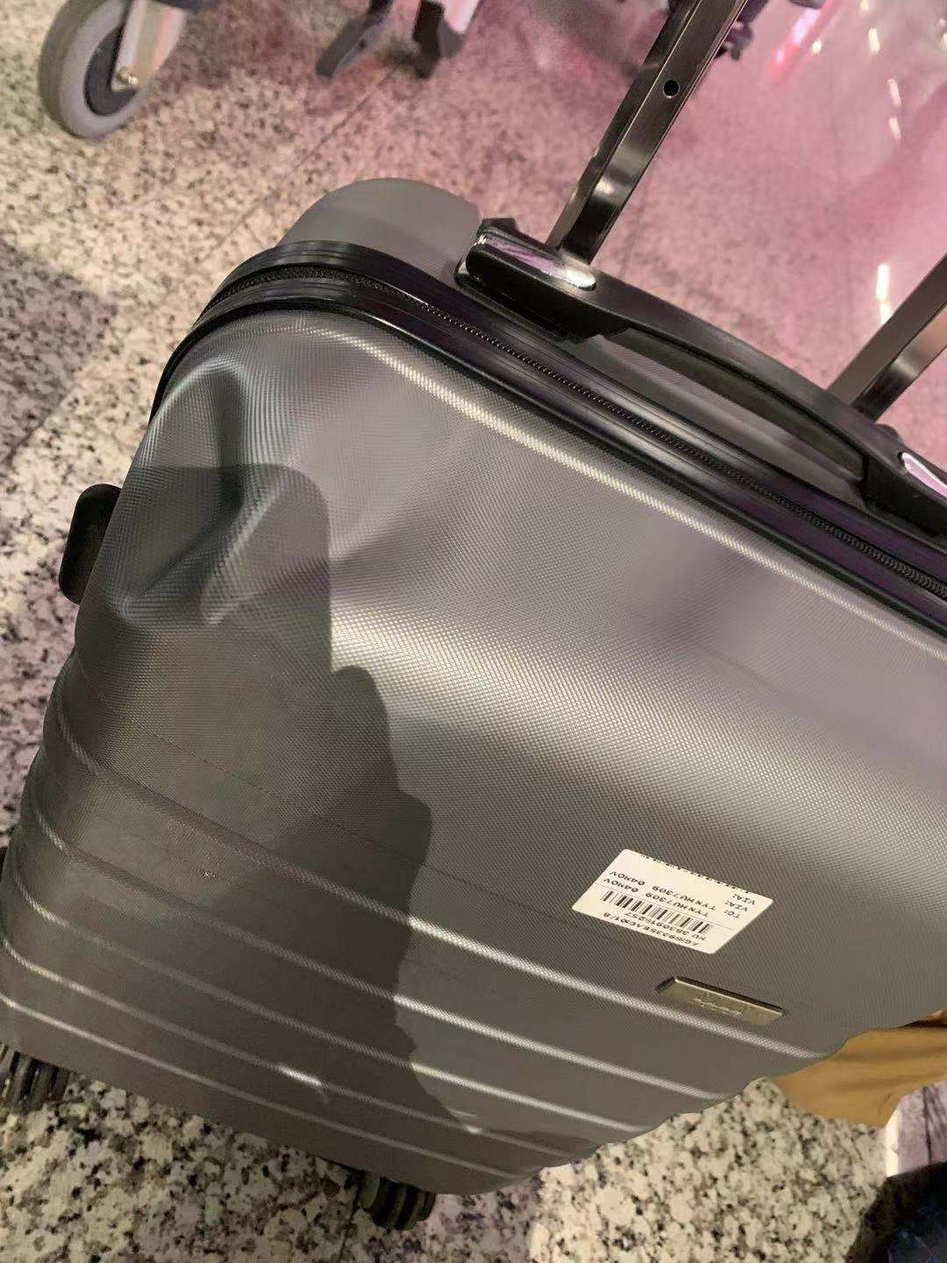rupture: (198, 447, 446, 631), (111, 359, 248, 632)
